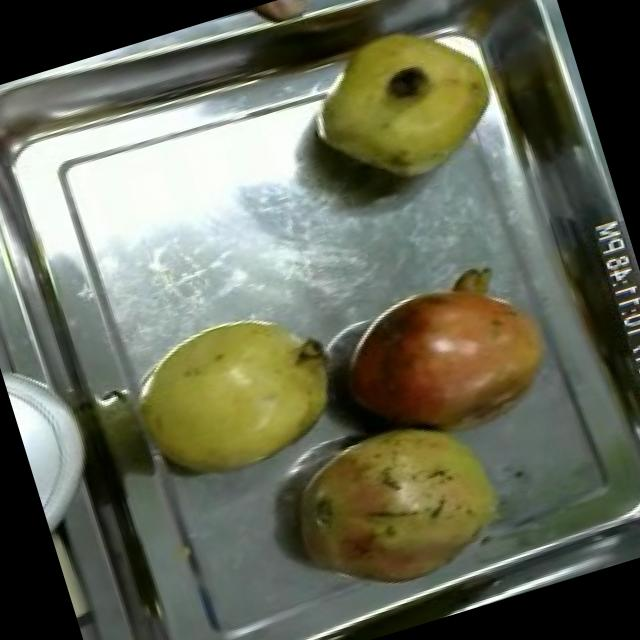fruit: (308, 230, 580, 474), (258, 390, 532, 622), (100, 284, 362, 506), (286, 1, 518, 208)
